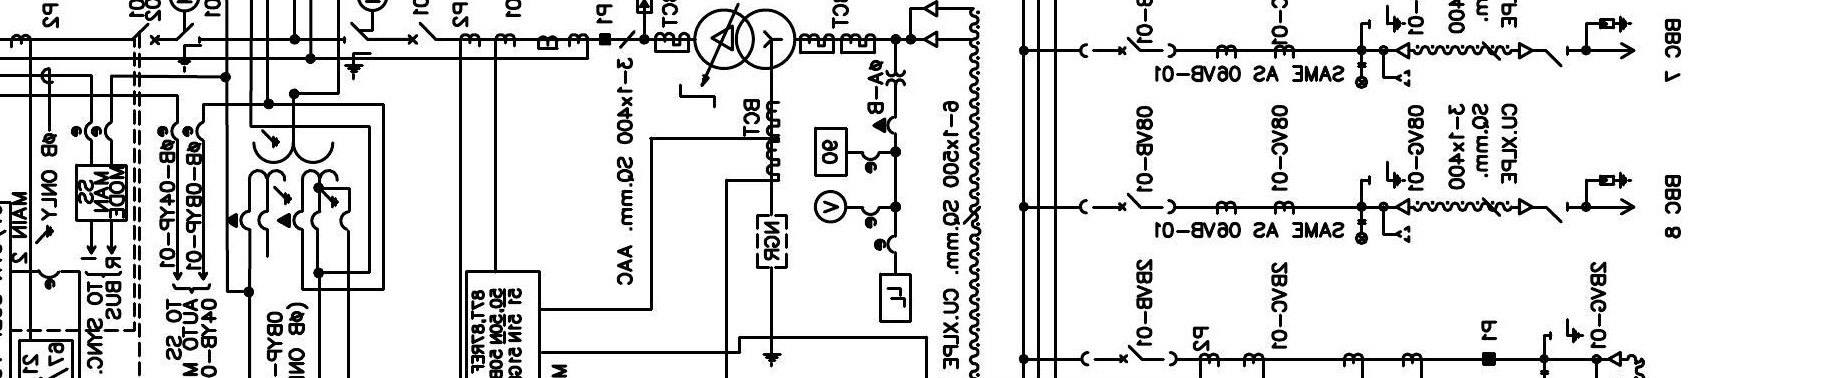11522_tx_dyn1: (692, 7, 797, 71)
115_breaker: (131, 22, 161, 46), (408, 30, 438, 54)
115_vt_1p: (226, 128, 340, 232)
22_breaker: (1079, 343, 1179, 367), (1078, 192, 1177, 216), (1078, 36, 1177, 59)
22_ds_la_out: (1544, 14, 1636, 68), (1545, 171, 1636, 225)
22_gs: (1367, 159, 1407, 190), (1367, 4, 1407, 34), (1548, 317, 1585, 344)
22_ll: (1354, 61, 1369, 90), (1354, 217, 1369, 246)
LL: (878, 271, 913, 324)
NGR_future: (755, 213, 790, 368)
ss_man_mode: (74, 163, 129, 223)
terminator_single: (1517, 41, 1534, 60), (1517, 197, 1534, 216)
terminator_w_future: (1381, 41, 1412, 88), (1381, 197, 1412, 244)
v_m: (813, 189, 849, 224)
